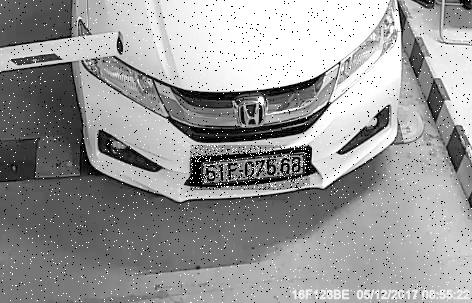License-plate: (191, 146, 311, 191)
